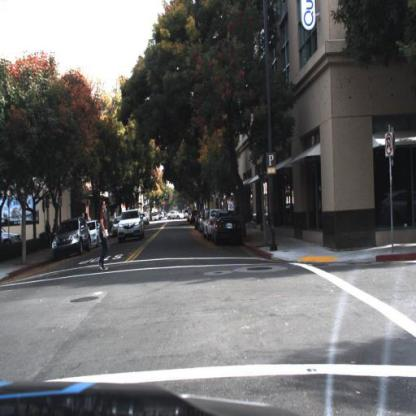car: (50, 216, 94, 260), (211, 210, 248, 254), (116, 208, 145, 247), (202, 208, 224, 241), (1, 225, 23, 252), (88, 218, 106, 251)
pedestrian: (94, 195, 114, 273), (42, 218, 53, 257), (52, 213, 61, 239)
